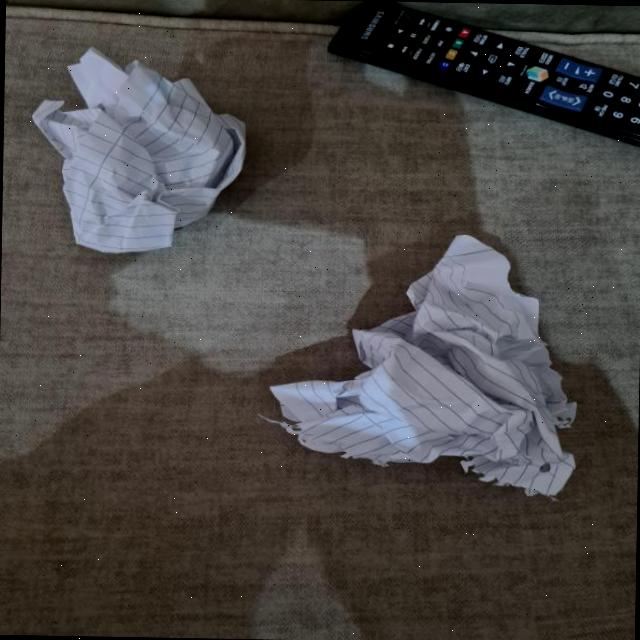trash: (326, 234, 569, 490), (33, 46, 251, 252)
